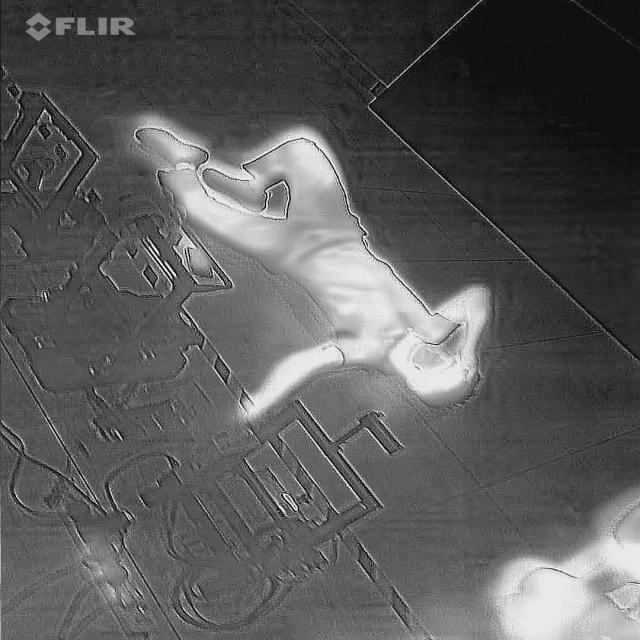Victim: (121, 117, 496, 432), (480, 464, 640, 640)
